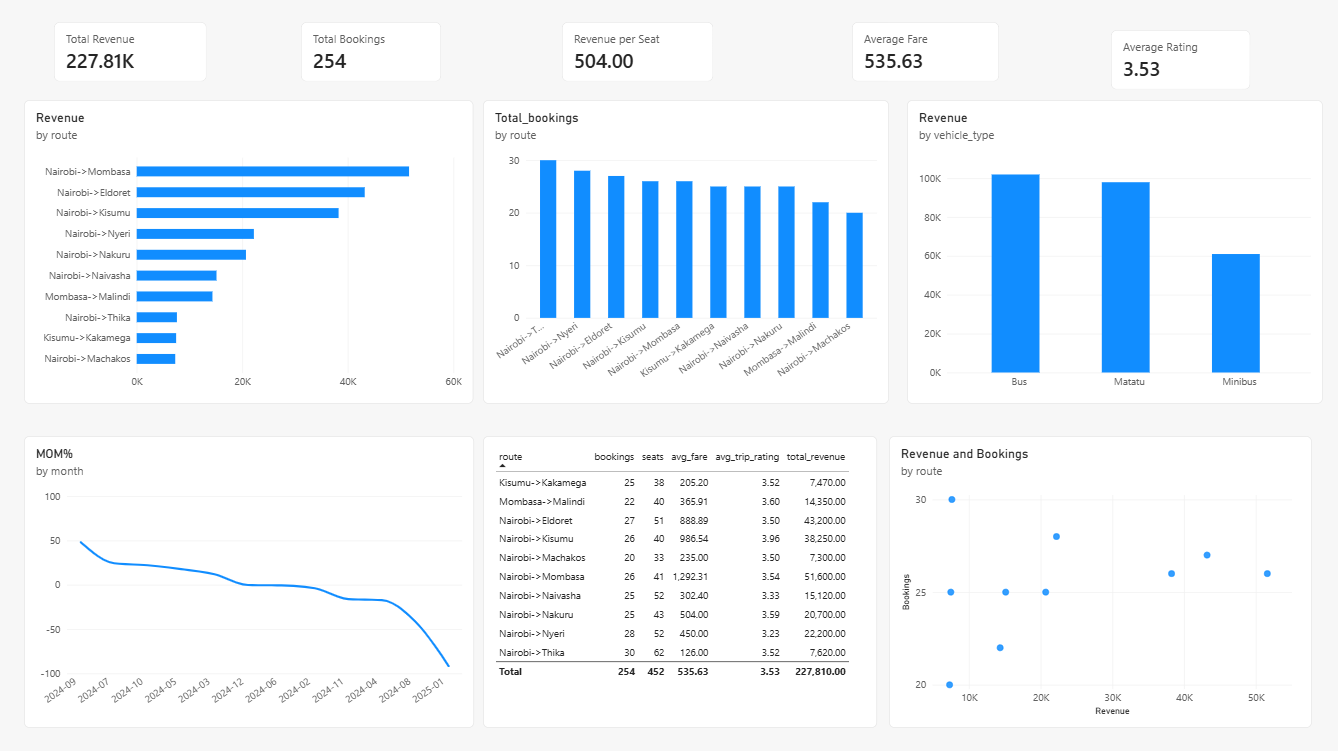

The page's visual inventory and layout, read from the dashboard file:
{"tool":"powerbi","page":{"name":"Page 2","canvas":[1920,1080],"ordinal":1},"visuals":[{"type":"tableEx","fields":{"Values":["clean v_route_performance.route","Sum(clean v_route_performance.total_bookings)","Sum(clean v_route_performance.total_seats)","Avg(clean v_route_performance.avg_fare)","Avg(clean v_route_performance.avg_trip_rating)","Sum(clean v_route_performance.total_revenue)"]},"box":[695.7,627.1,562.9,417.1],"z":0},{"type":"barChart","fields":{"Category":["clean v_route_performance.route"],"Y":["Sum(clean v_route_performance.total_revenue)"]},"box":[40,147.1,642.4,433.6],"z":1000},{"type":"lineChart","fields":{"Category":["clean v_monthly_revenue.month"],"Y":["Avg(clean v_monthly_revenue.change_pct)"]},"box":[40,627.1,642.9,417.1],"z":2000},{"type":"cardVisual","fields":{"Data":["Sum(clean v_route_performance.total_revenue)"]},"box":[82.5,35.9,218.4,85.2],"z":3000},{"type":"cardVisual","fields":{"Data":["Sum(clean v_route_performance.total_bookings)"]},"box":[436.3,35.9,200.5,85.2],"z":4000},{"type":"cardVisual","fields":{"Data":["clean v_route_performance.Revenue Per Seat"]},"box":[808.7,35.9,217,85.2],"z":5000},{"type":"cardVisual","fields":{"Data":["Avg(clean v_route_performance.avg_fare)"]},"box":[1222.3,35.9,210.1,85.2],"z":6000},{"type":"cardVisual","fields":{"Data":["Avg(clean v_route_performance.avg_trip_rating)"]},"box":[1593.4,46.6,199.1,85.2],"z":7000},{"type":"clusteredColumnChart","fields":{"Category":["clean v_route_performance.route"],"Y":["Sum(clean v_route_performance.total_bookings)"]},"box":[695.7,147.1,580,434.3],"z":8000},{"type":"clusteredColumnChart","fields":{"Category":["clean bookings.vehicle_type"],"Y":["Sum(clean bookings.total_fare)"]},"box":[1301.4,147.1,594.3,434.3],"z":8001},{"type":"scatterChart","fields":{"X":["Sum(clean v_route_performance.total_revenue)"],"Y":["Sum(clean v_route_performance.total_bookings)"],"Category":["clean v_route_performance.route"]},"box":[1275.7,627.1,604.3,417.1],"z":8002}]}

Visuals, with their boxes in screenshot pixels (x1, y1, x2, y2), scaled from the page's 1920x1080 canvas onto the 1338x751 screenshot:
tableEx - clean v_route_performance.route x Sum(clean v_route_performance.total_bookings): 485, 436, 877, 726
barChart - clean v_route_performance.route x Sum(clean v_route_performance.total_revenue): 28, 102, 476, 404
lineChart - clean v_monthly_revenue.month x Avg(clean v_monthly_revenue.change_pct): 28, 436, 476, 726
cardVisual - Sum(clean v_route_performance.total_revenue): 57, 25, 210, 84
cardVisual - Sum(clean v_route_performance.total_bookings): 304, 25, 444, 84
cardVisual - clean v_route_performance.Revenue Per Seat: 564, 25, 715, 84
cardVisual - Avg(clean v_route_performance.avg_fare): 852, 25, 998, 84
cardVisual - Avg(clean v_route_performance.avg_trip_rating): 1110, 32, 1249, 92
clusteredColumnChart - clean v_route_performance.route x Sum(clean v_route_performance.total_bookings): 485, 102, 889, 404
clusteredColumnChart - clean bookings.vehicle_type x Sum(clean bookings.total_fare): 907, 102, 1321, 404
scatterChart - Sum(clean v_route_performance.total_revenue) x Sum(clean v_route_performance.total_bookings): 889, 436, 1310, 726
